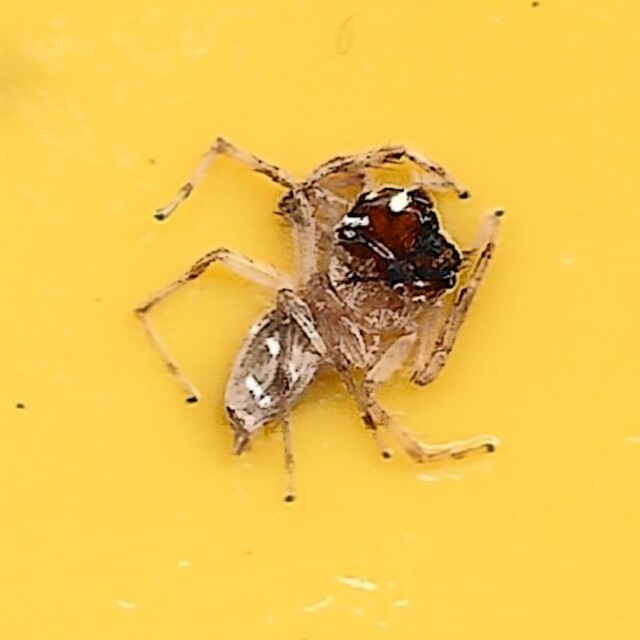Araneae: (129, 134, 511, 506)
